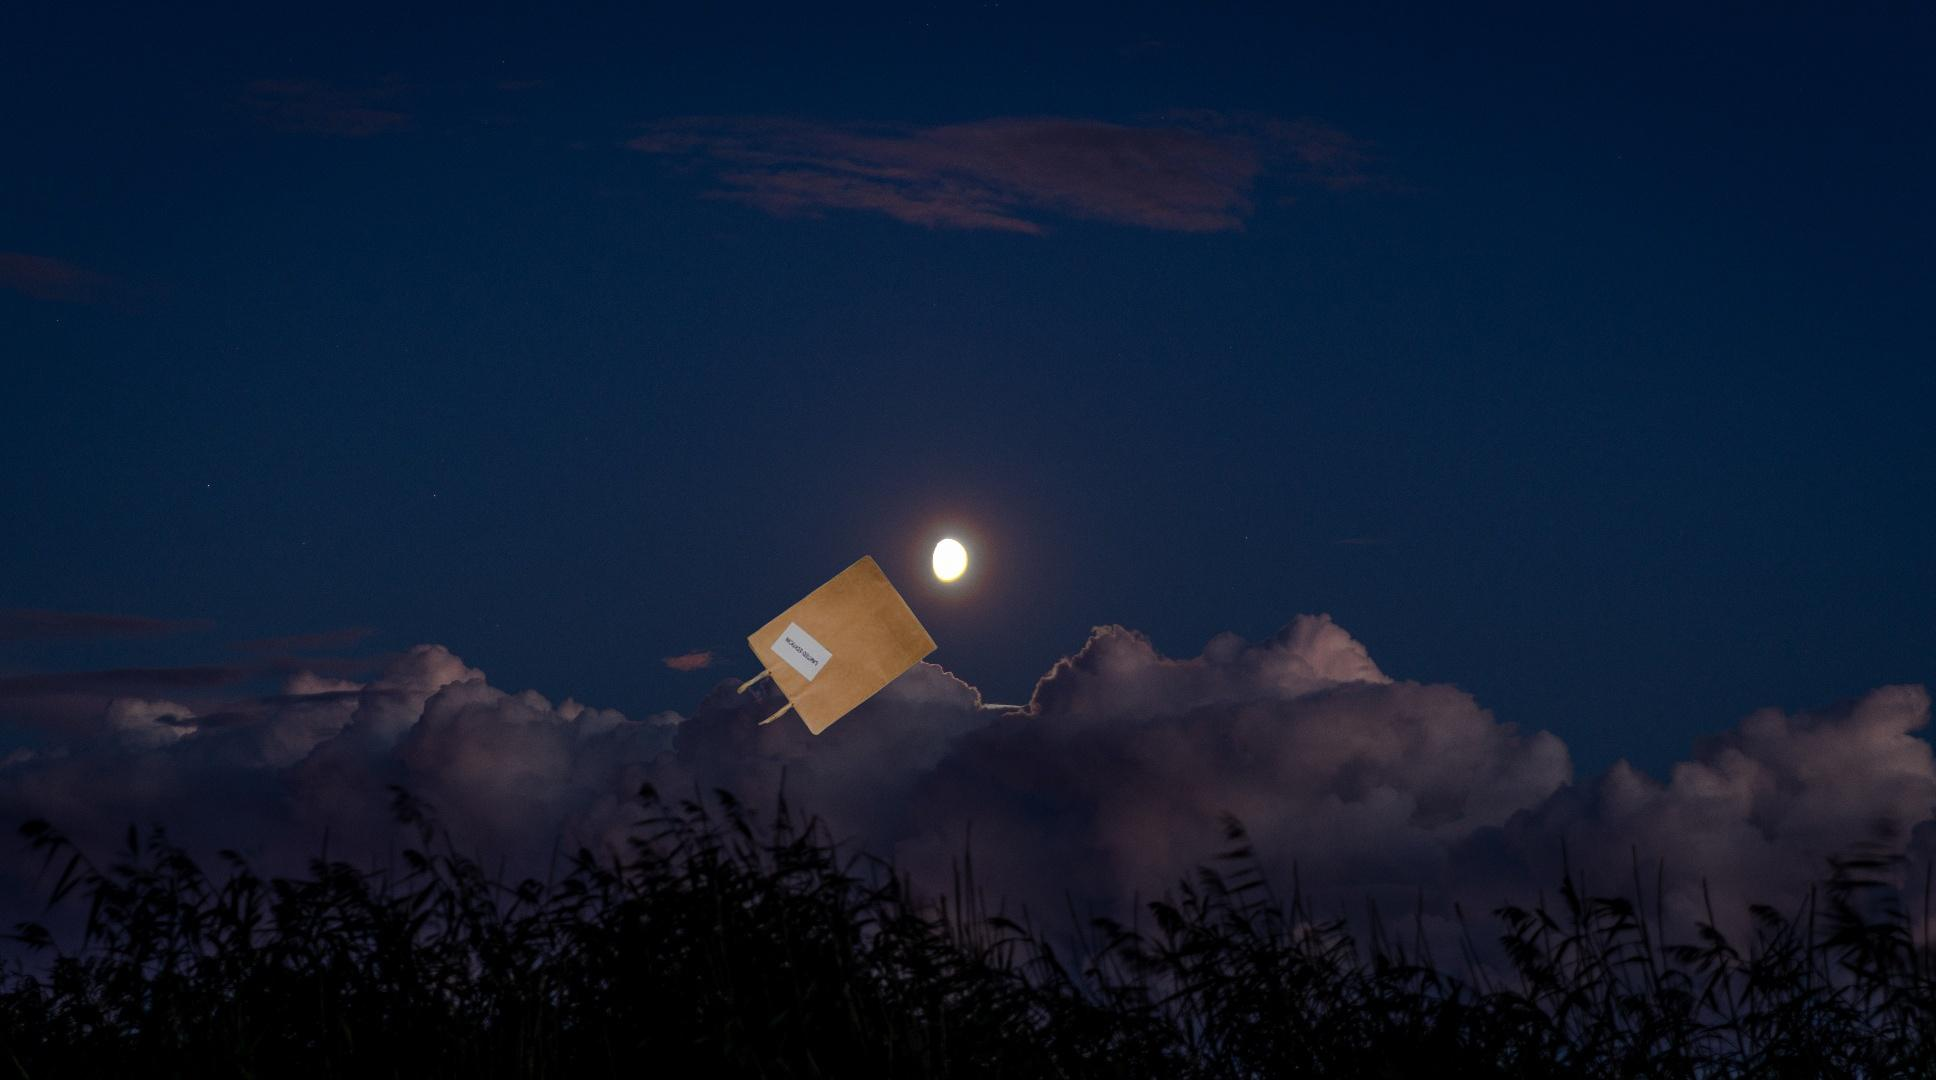paper-bag: (687, 553, 940, 794)
